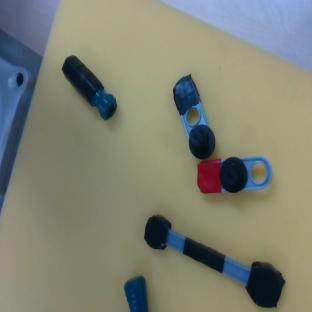part_1_bad: (165, 74, 220, 162)
part_1_good: (196, 154, 273, 193)
part_2_bad: (56, 51, 122, 122)
part_3_bad: (134, 211, 291, 312)
